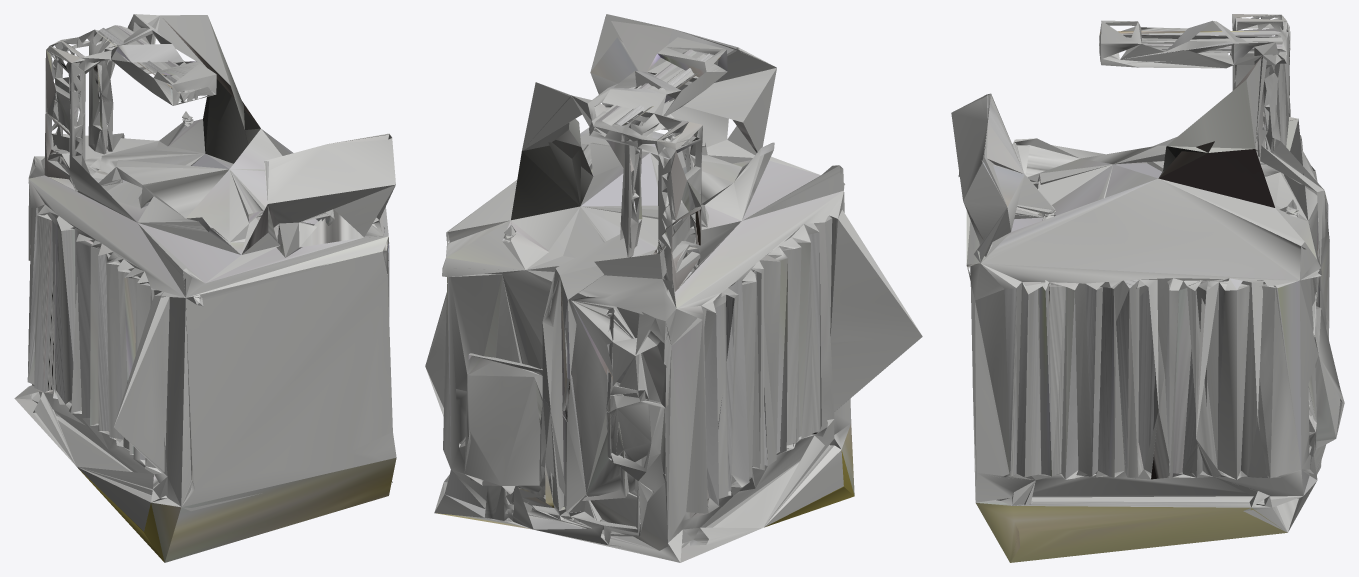
The model's file is k07_far.glb.
3 renders of one model, left to right at view 1: azimuth 30°, elevation 25°; view 2: azimuth 150°, elevation 25°; view 3: azimuth 270°, elevation 25°, orthographic. The views are drawn at different scales.
Parts seen in each view (by area): view 1: k07_far; view 2: k07_far; view 3: k07_far.
Boxes of the visible parts, left/top/right/bottom form: k07_far: left=14, top=14, right=396, bottom=562; k07_far: left=425, top=14, right=922, bottom=562; k07_far: left=951, top=14, right=1344, bottom=562.
Bounding box in the file's own units: 13.16 × 16 × 12.52.
1 material, 1 textured.
